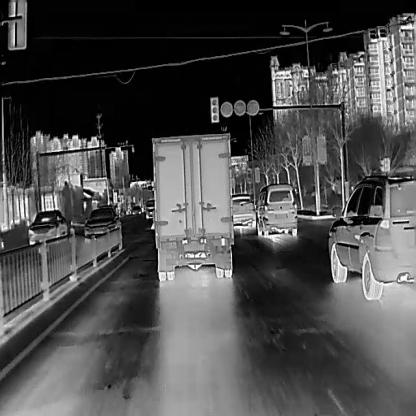car: (328, 174, 416, 300), (256, 182, 298, 235), (27, 208, 67, 245), (83, 206, 119, 238), (229, 192, 254, 226), (144, 199, 152, 219)
truck: (151, 134, 233, 280)
